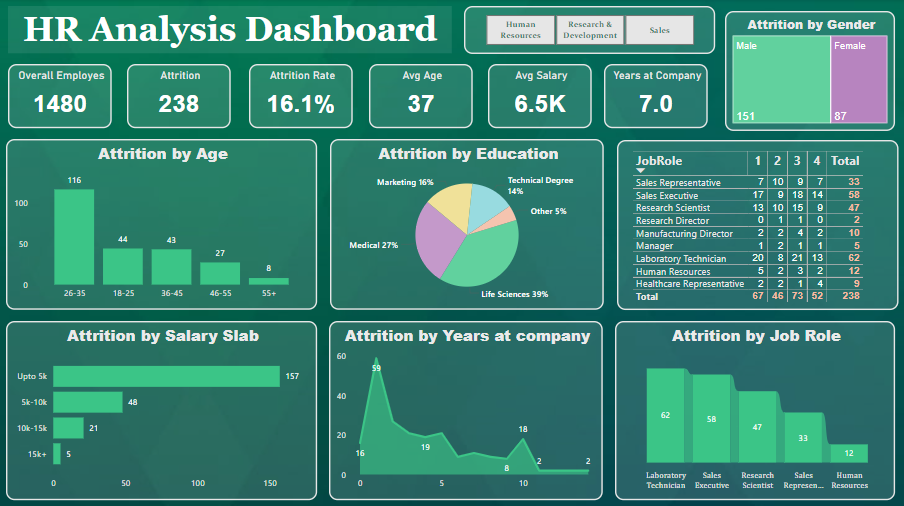

The page's visual inventory and layout, read from the dashboard file:
{"tool":"powerbi","page":{"name":"Page 1","canvas":[1280,720],"ordinal":0},"visuals":[{"type":"columnChart","title":"Attrition by Age","fields":{"Category":["HR_Analytics (2).AgeGroup"],"Y":["Sum(HR_Analytics (2).Attrition count)"]},"box":[8.5,198.4,440.8,242.4],"z":0},{"type":"pieChart","title":"Attrition by Education","fields":{"Category":["HR_Analytics (2).EducationField"],"Y":["Sum(HR_Analytics (2).Attrition count)"]},"box":[467.7,198.4,388.3,242.4],"z":1000},{"type":"barChart","title":"Attrition by Salary Slab","fields":{"Category":["HR_Analytics (2).SalarySlab"],"Y":["Sum(HR_Analytics (2).Attrition count)"]},"box":[8.5,456.4,440.8,253.7],"z":2000},{"type":"areaChart","title":"Attrition by Years at company","fields":{"Category":["HR_Analytics (2).YearsAtCompany"],"Y":["Sum(HR_Analytics (2).Attrition count)"]},"box":[466.3,456.4,388.3,253.7],"z":3000},{"type":"ribbonChart","title":"Attrition by Job Role","fields":{"Y":["Sum(HR_Analytics (2).Attrition count)"],"Category":["HR_Analytics (2).JobRole"]},"box":[871.7,456.4,396.9,253.7],"z":4000},{"type":"treemap","title":"Attrition by Gender","fields":{"Group":["HR_Analytics (2).Gender"],"Values":["Sum(HR_Analytics (2).Attrition count)"]},"box":[1027.6,17,240.9,170.1],"z":5000},{"type":"pivotTable","fields":{"Rows":["HR_Analytics (2).JobRole"],"Columns":["HR_Analytics (2).JobSatisfaction"],"Values":["Sum(HR_Analytics (2).Attrition count)"]},"box":[874,199.8,399,241],"z":6000},{"type":"card","title":"Attrition","fields":{"Values":["Sum(HR_Analytics (2).Attrition count)"]},"box":[180,92.1,147.4,90.7],"z":7000},{"type":"card","title":"Avg Age","fields":{"Values":["Avg(HR_Analytics (2).Age)"]},"box":[523,92.1,147.4,90.7],"z":8000},{"type":"card","title":"Years at Company","fields":{"Values":["Avg(HR_Analytics (2).YearsAtCompany)"]},"box":[856.1,92.1,147.4,90.7],"z":9000},{"type":"card","title":"Avg Salary","fields":{"Values":["Avg(HR_Analytics (2).MonthlyIncome)"]},"box":[691.7,92.1,147.4,90.7],"z":10000},{"type":"card","title":"Overall Employes","fields":{"Values":["Sum(HR_Analytics (2).EmployeeCount)"]},"box":[11.3,92.1,147.4,90.7],"z":11000},{"type":"card","title":"Attrition Rate","fields":{"Values":["HR_Analytics (2).Attrition rate"]},"box":[352.9,92.1,147.4,90.7],"z":12000},{"type":"textbox","box":[11.3,9.9,629.3,66.6],"z":13000},{"type":"slicer","fields":{"Values":["HR_Analytics (2).Department"]},"box":[657.6,9.9,355.7,68],"z":14000}]}

Visuals, with their boxes in screenshot pixels (x1, y1, x2, y2), scaled from the page's 1280x720 canvas onto the 904x506 screenshot:
"Attrition by Age" columnChart: [x1=6, y1=139, x2=317, y2=310]
"Attrition by Education" pieChart: [x1=330, y1=139, x2=605, y2=310]
"Attrition by Salary Slab" barChart: [x1=6, y1=321, x2=317, y2=499]
"Attrition by Years at company" areaChart: [x1=329, y1=321, x2=604, y2=499]
"Attrition by Job Role" ribbonChart: [x1=616, y1=321, x2=896, y2=499]
"Attrition by Gender" treemap: [x1=726, y1=12, x2=896, y2=131]
pivotTable - HR_Analytics (2).JobRole x HR_Analytics (2).JobSatisfaction: [x1=617, y1=140, x2=899, y2=310]
"Attrition" card: [x1=127, y1=65, x2=231, y2=128]
"Avg Age" card: [x1=369, y1=65, x2=473, y2=128]
"Years at Company" card: [x1=605, y1=65, x2=709, y2=128]
"Avg Salary" card: [x1=489, y1=65, x2=593, y2=128]
"Overall Employes" card: [x1=8, y1=65, x2=112, y2=128]
"Attrition Rate" card: [x1=249, y1=65, x2=353, y2=128]
textbox: [x1=8, y1=7, x2=452, y2=54]
slicer - HR_Analytics (2).Department: [x1=464, y1=7, x2=716, y2=55]
